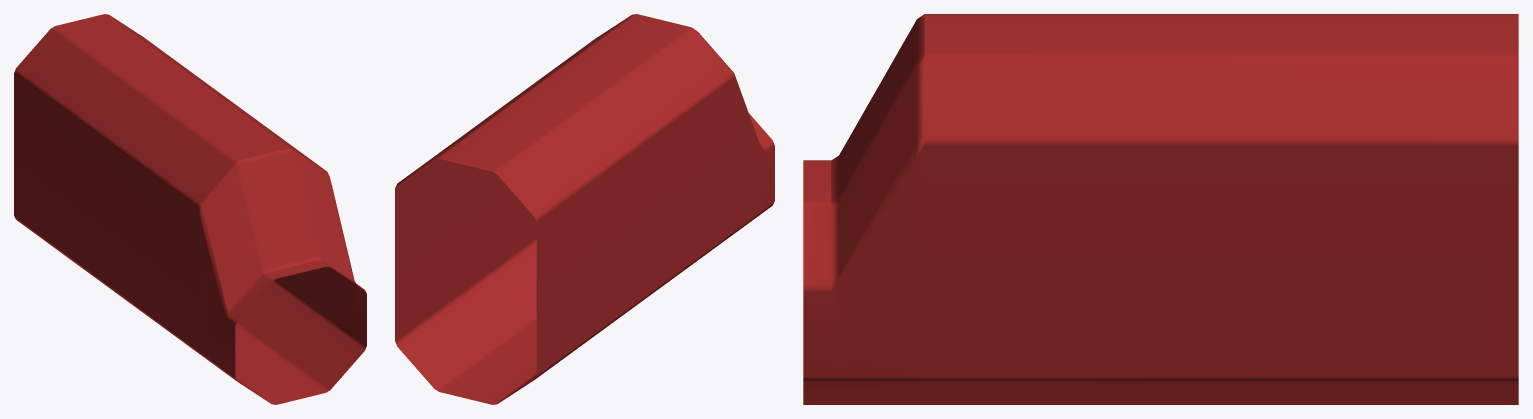
Rendered from tall connection soft.fbx.
3 renders of one model, left to right at view 1: azimuth 30°, elevation 25°; view 2: azimuth 150°, elevation 25°; view 3: azimuth 270°, elevation 25°, orthographic. The views are drawn at different scales.
Visible parts, largest first — view 1: Tall_Corridor_connection; view 2: Tall_Corridor_connection; view 3: Tall_Corridor_connection.
Boxes of the visible parts, x1,y1,x2,y2 form: Tall_Corridor_connection: (14,14,366,404); Tall_Corridor_connection: (395,14,774,404); Tall_Corridor_connection: (803,14,1518,404).
Size of the model in its own units: 24 by 37.8 by 70.
